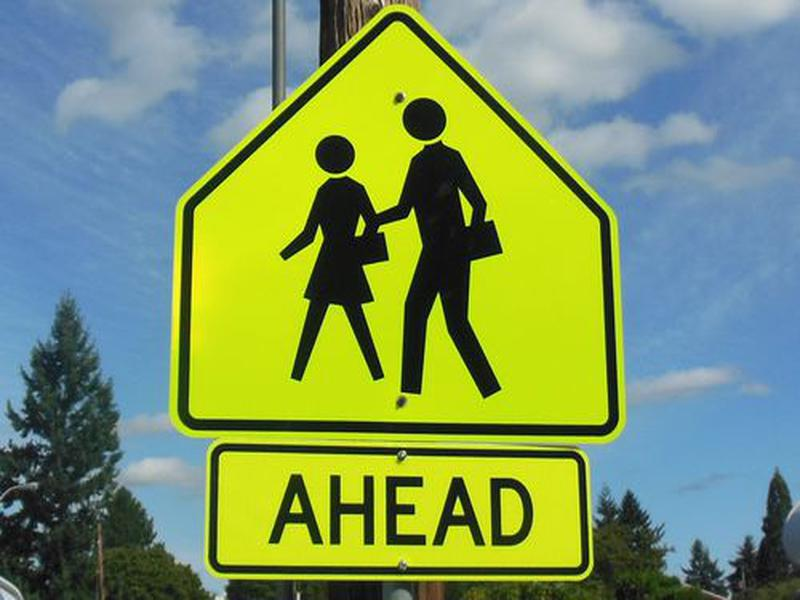slow: (152, 9, 629, 446)
